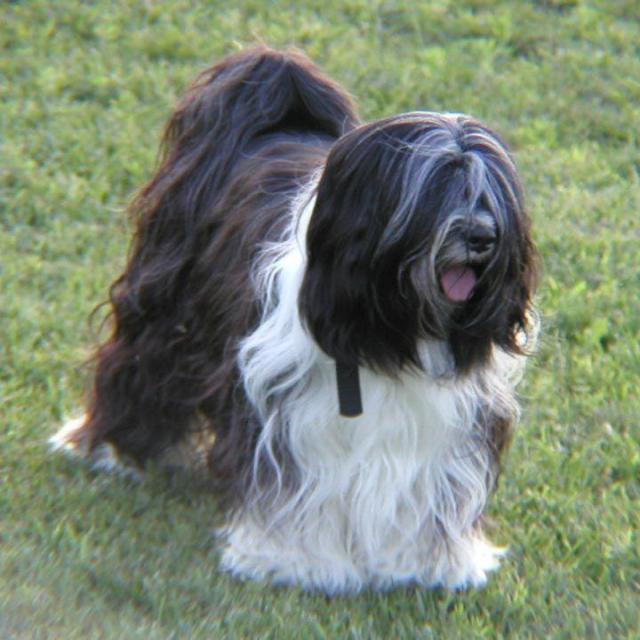adult_dog: (37, 29, 551, 600)
